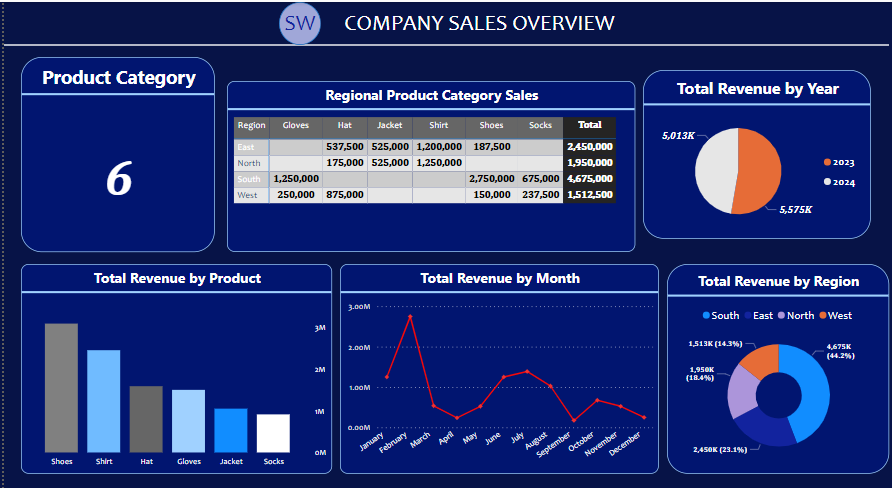

The page's visual inventory and layout, read from the dashboard file:
{"tool":"powerbi","page":{"name":"Sales Overview","canvas":[1280,720],"ordinal":0},"visuals":[{"type":"card","title":"Product Category","fields":{"Values":["Count(SalesData.Product)"]},"box":[24.5,79.2,279.4,280.8],"z":0},{"type":"clusteredColumnChart","title":"Total Revenue by Product","fields":{"Category":["SalesData.Product"],"Y":["Sum(SalesData.Revenue)"]},"box":[24.5,377.3,447.8,302.4],"z":1000},{"type":"donutChart","title":"Total Revenue by Region","fields":{"Category":["SalesData.Region"],"Y":["Sum(SalesData.Revenue)"]},"box":[954.7,377.3,319.7,302.4],"z":2000},{"type":"lineChart","title":"Total Revenue by Month","fields":{"Category":["SalesData.OrderDate.Variation.Date Hierarchy.Month"],"Y":["Sum(SalesData.Revenue)"]},"box":[483.8,377.3,459.4,302.4],"z":3000},{"type":"pivotTable","title":"Regional Product Category Sales","fields":{"Values":["Sum(SalesData.Revenue)"],"Rows":["SalesData.Region"],"Columns":["SalesData.Product"]},"box":[321.1,113.8,587.5,246.2],"z":4000},{"type":"shape","box":[0,10.1,1274.4,103.7],"z":5000},{"type":"shape","box":[396,0,60.5,61.9],"z":5500},{"type":"textbox","box":[374.4,5.8,534.2,56.2],"z":6000},{"type":"pieChart","title":"Total Revenue by Year","fields":{"Y":["Sum(SalesData.Revenue)"],"Category":["SalesData.OrderDate.Variation.Date Hierarchy.Year"]},"box":[920.2,97.9,328.3,243.4],"z":8000}]}

Visuals, with their boxes in screenshot pixels (x1, y1, x2, y2), scaled from the page's 1280x720 canvas onto the 892x488 screenshot:
"Product Category" card: 17,54,212,244
"Total Revenue by Product" clusteredColumnChart: 17,256,329,461
"Total Revenue by Region" donutChart: 665,256,888,461
"Total Revenue by Month" lineChart: 337,256,657,461
"Regional Product Category Sales" pivotTable: 224,77,633,244
shape: 0,7,888,77
shape: 276,0,318,42
textbox: 261,4,633,42
"Total Revenue by Year" pieChart: 641,66,870,231
